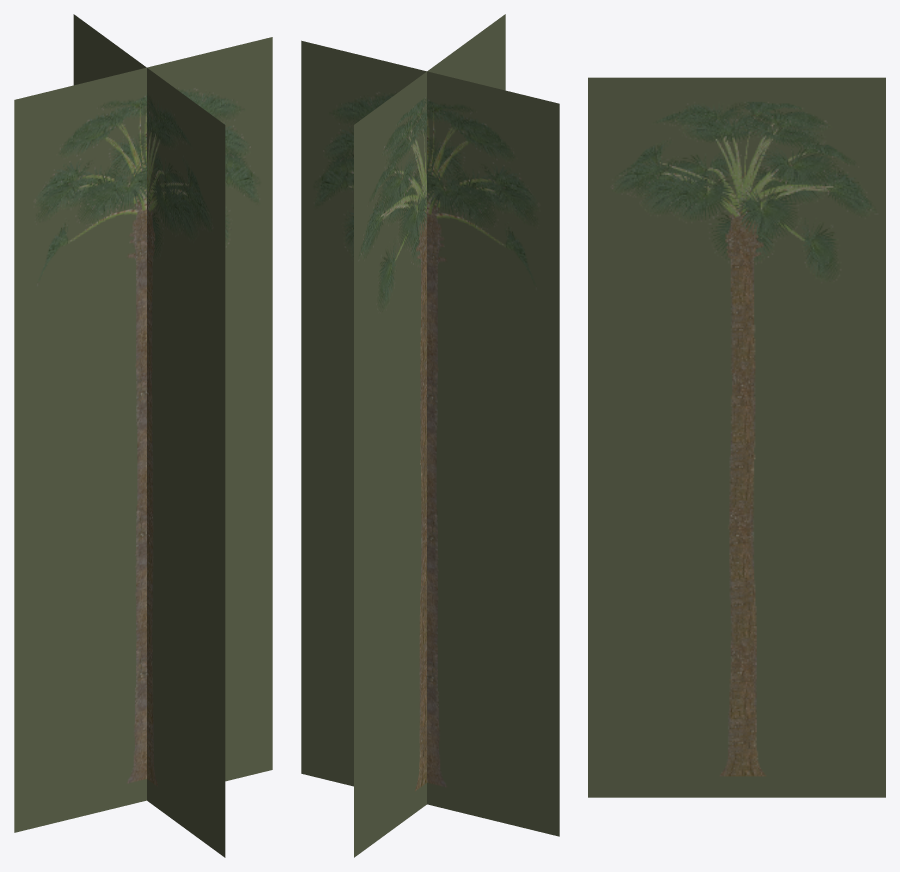
File: WashingtoniaFilifera.glb
3 renders of one model, left to right at view 1: azimuth 30°, elevation 25°; view 2: azimuth 150°, elevation 25°; view 3: azimuth 270°, elevation 25°, orthographic.
Parts seen in each view (by area): view 1: mesh__mat_billboard_5; view 2: mesh__mat_billboard_5; view 3: mesh__mat_billboard_5.
Part boxes in pixels (bbox=[...]): mesh__mat_billboard_5: bbox=[14, 14, 272, 857]; mesh__mat_billboard_5: bbox=[301, 14, 559, 857]; mesh__mat_billboard_5: bbox=[588, 77, 885, 797].
Bounding box in the file's own units: 7.1 × 19.26 × 7.22.
Materials: 1 (1 with a texture image).
